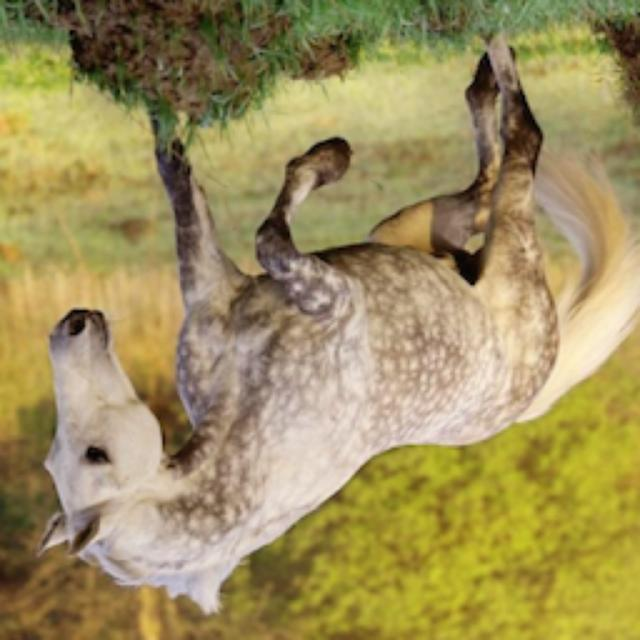Horse: (30, 22, 640, 620)
